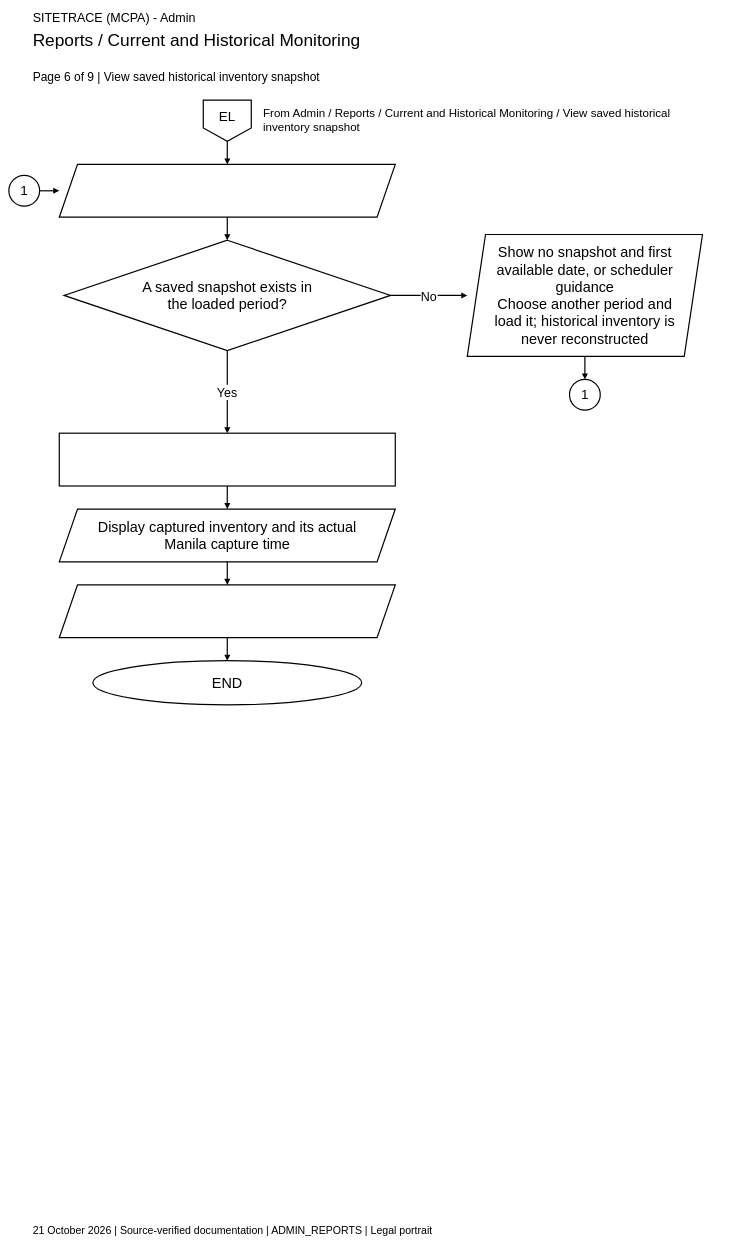
Some shapes in this 747 by 1248 pixel diagram are drawn without their labels. The shapes that lost their labels are listed below. From the top down, each one's box as (x1, y1, x2, y2) in pixels, then its label:
(58, 164, 396, 218): Choose Historical inventory and select an available captured snapshot
(58, 432, 396, 486): Use the selected snapshot tools; exclude zero-quantity rows
(58, 584, 396, 638): An immutable saved inventory observation is displayed.
